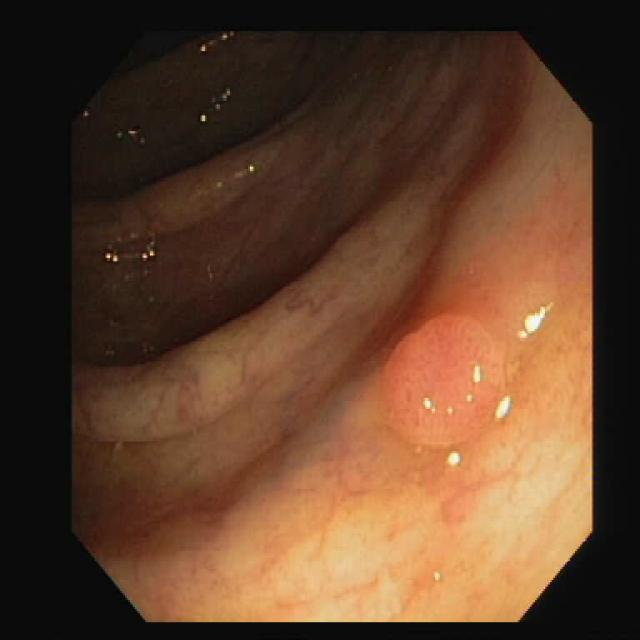tumor: (382, 316, 503, 444)
